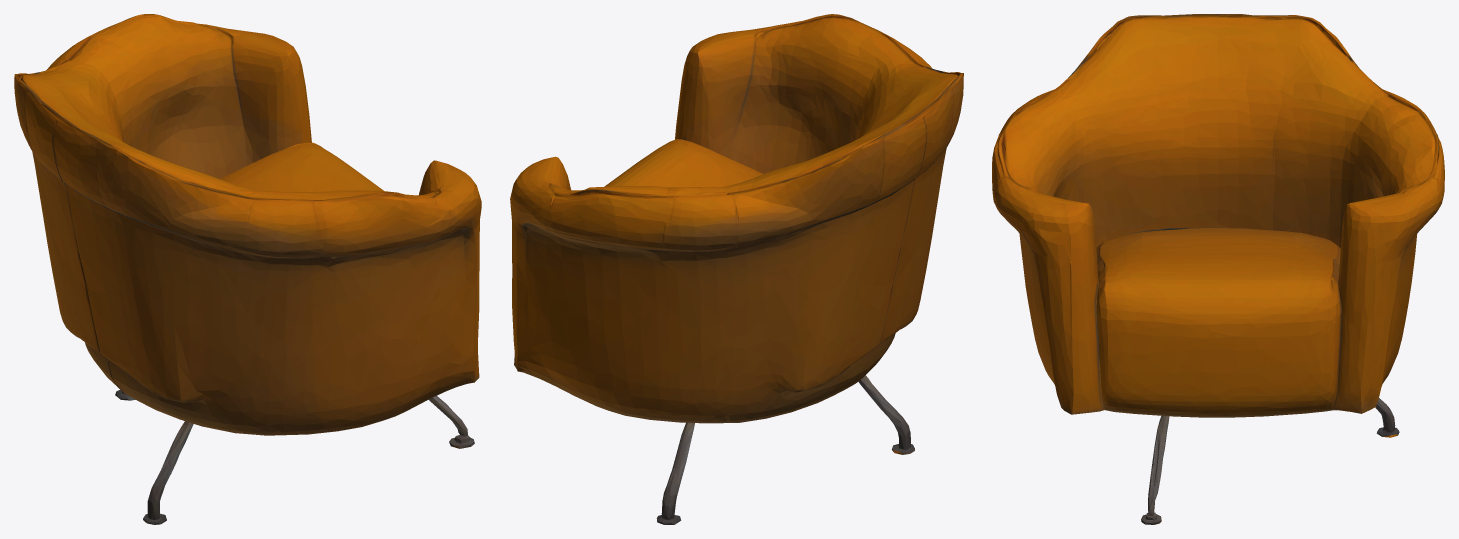
File: lounge_chair_22.obj
3 renders of one model, left to right at view 1: azimuth 30°, elevation 25°; view 2: azimuth 150°, elevation 25°; view 3: azimuth 270°, elevation 25°, orthographic. The views are drawn at different scales.
Size of the model in its own units: 0.8178 by 0.8 by 0.94.
Materials: 1 (1 with a texture image).
